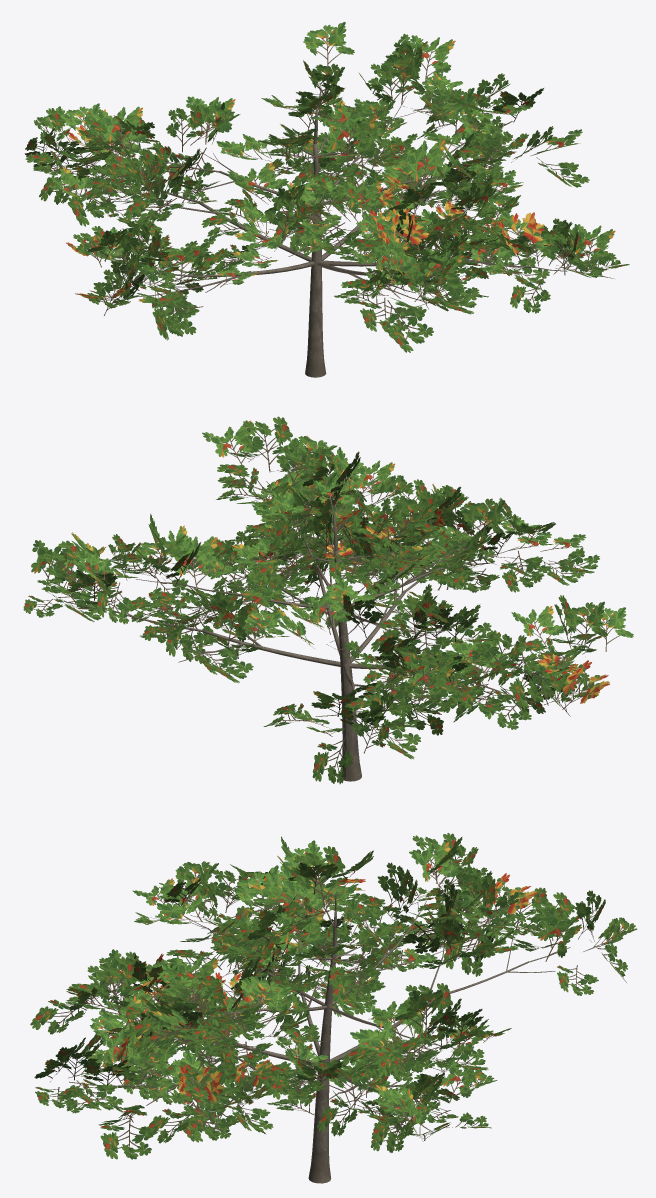
The model's file is Kobateishi_B.gltf.
3 renders of one model, top to bottom at view 1: azimuth 30°, elevation 25°; view 2: azimuth 150°, elevation 25°; view 3: azimuth 270°, elevation 25°, orthographic. The views are drawn at different scales.
Visible parts, largest first — view 1: Kobateishi_B; view 2: Kobateishi_B; view 3: Kobateishi_B.
Part boxes in pixels (x1,y1,x2,y2): Kobateishi_B: [24, 22, 629, 377]; Kobateishi_B: [23, 416, 633, 784]; Kobateishi_B: [30, 833, 637, 1183].
Size of the model in its own units: 14.27 by 8.5 by 13.77.
Materials: 2 (2 with a texture image).
